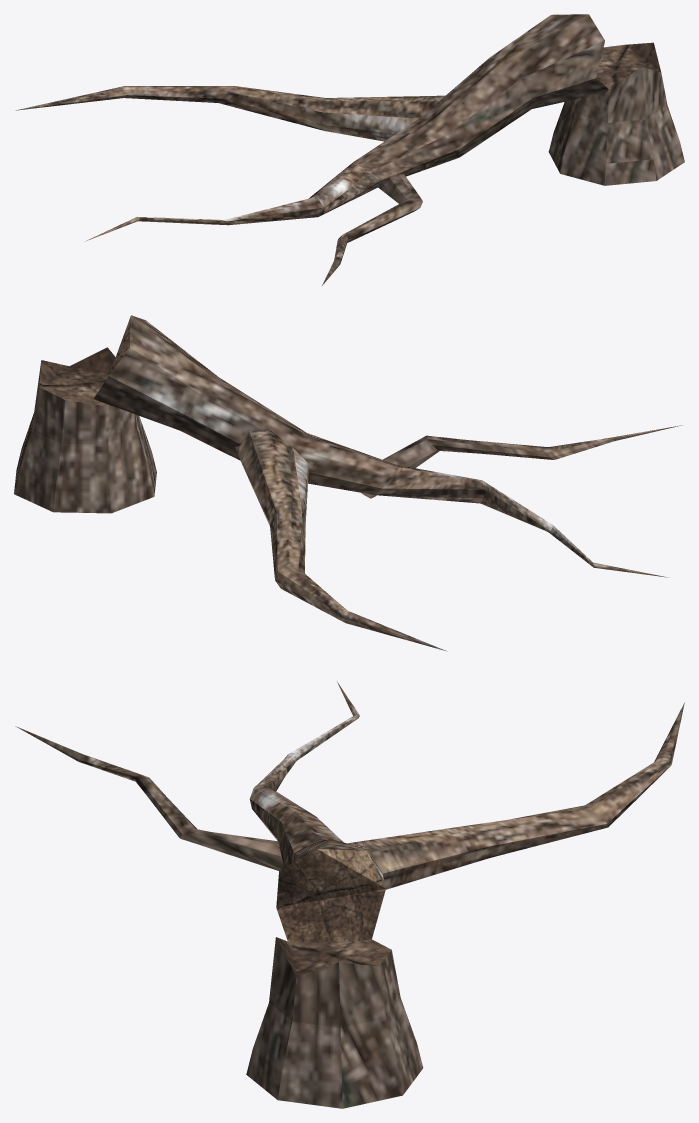
File: Oak_Fallen_002.fbx
3 renders of one model, top to bottom at view 1: azimuth 30°, elevation 25°; view 2: azimuth 150°, elevation 25°; view 3: azimuth 270°, elevation 25°, orthographic. The views are drawn at different scales.
Parts seen in each view (by area): view 1: Tree_Oak_Trunk_Dead2; view 2: Tree_Oak_Trunk_Dead2; view 3: Tree_Oak_Trunk_Dead2.
Part boxes in pixels (x1=…): Tree_Oak_Trunk_Dead2: x1=15, y1=14, x2=684, y2=285; Tree_Oak_Trunk_Dead2: x1=14, y1=315, x2=681, y2=651; Tree_Oak_Trunk_Dead2: x1=15, y1=681, x2=684, y2=1108.
Size of the model in its own units: 1353 by 341 by 1032.
